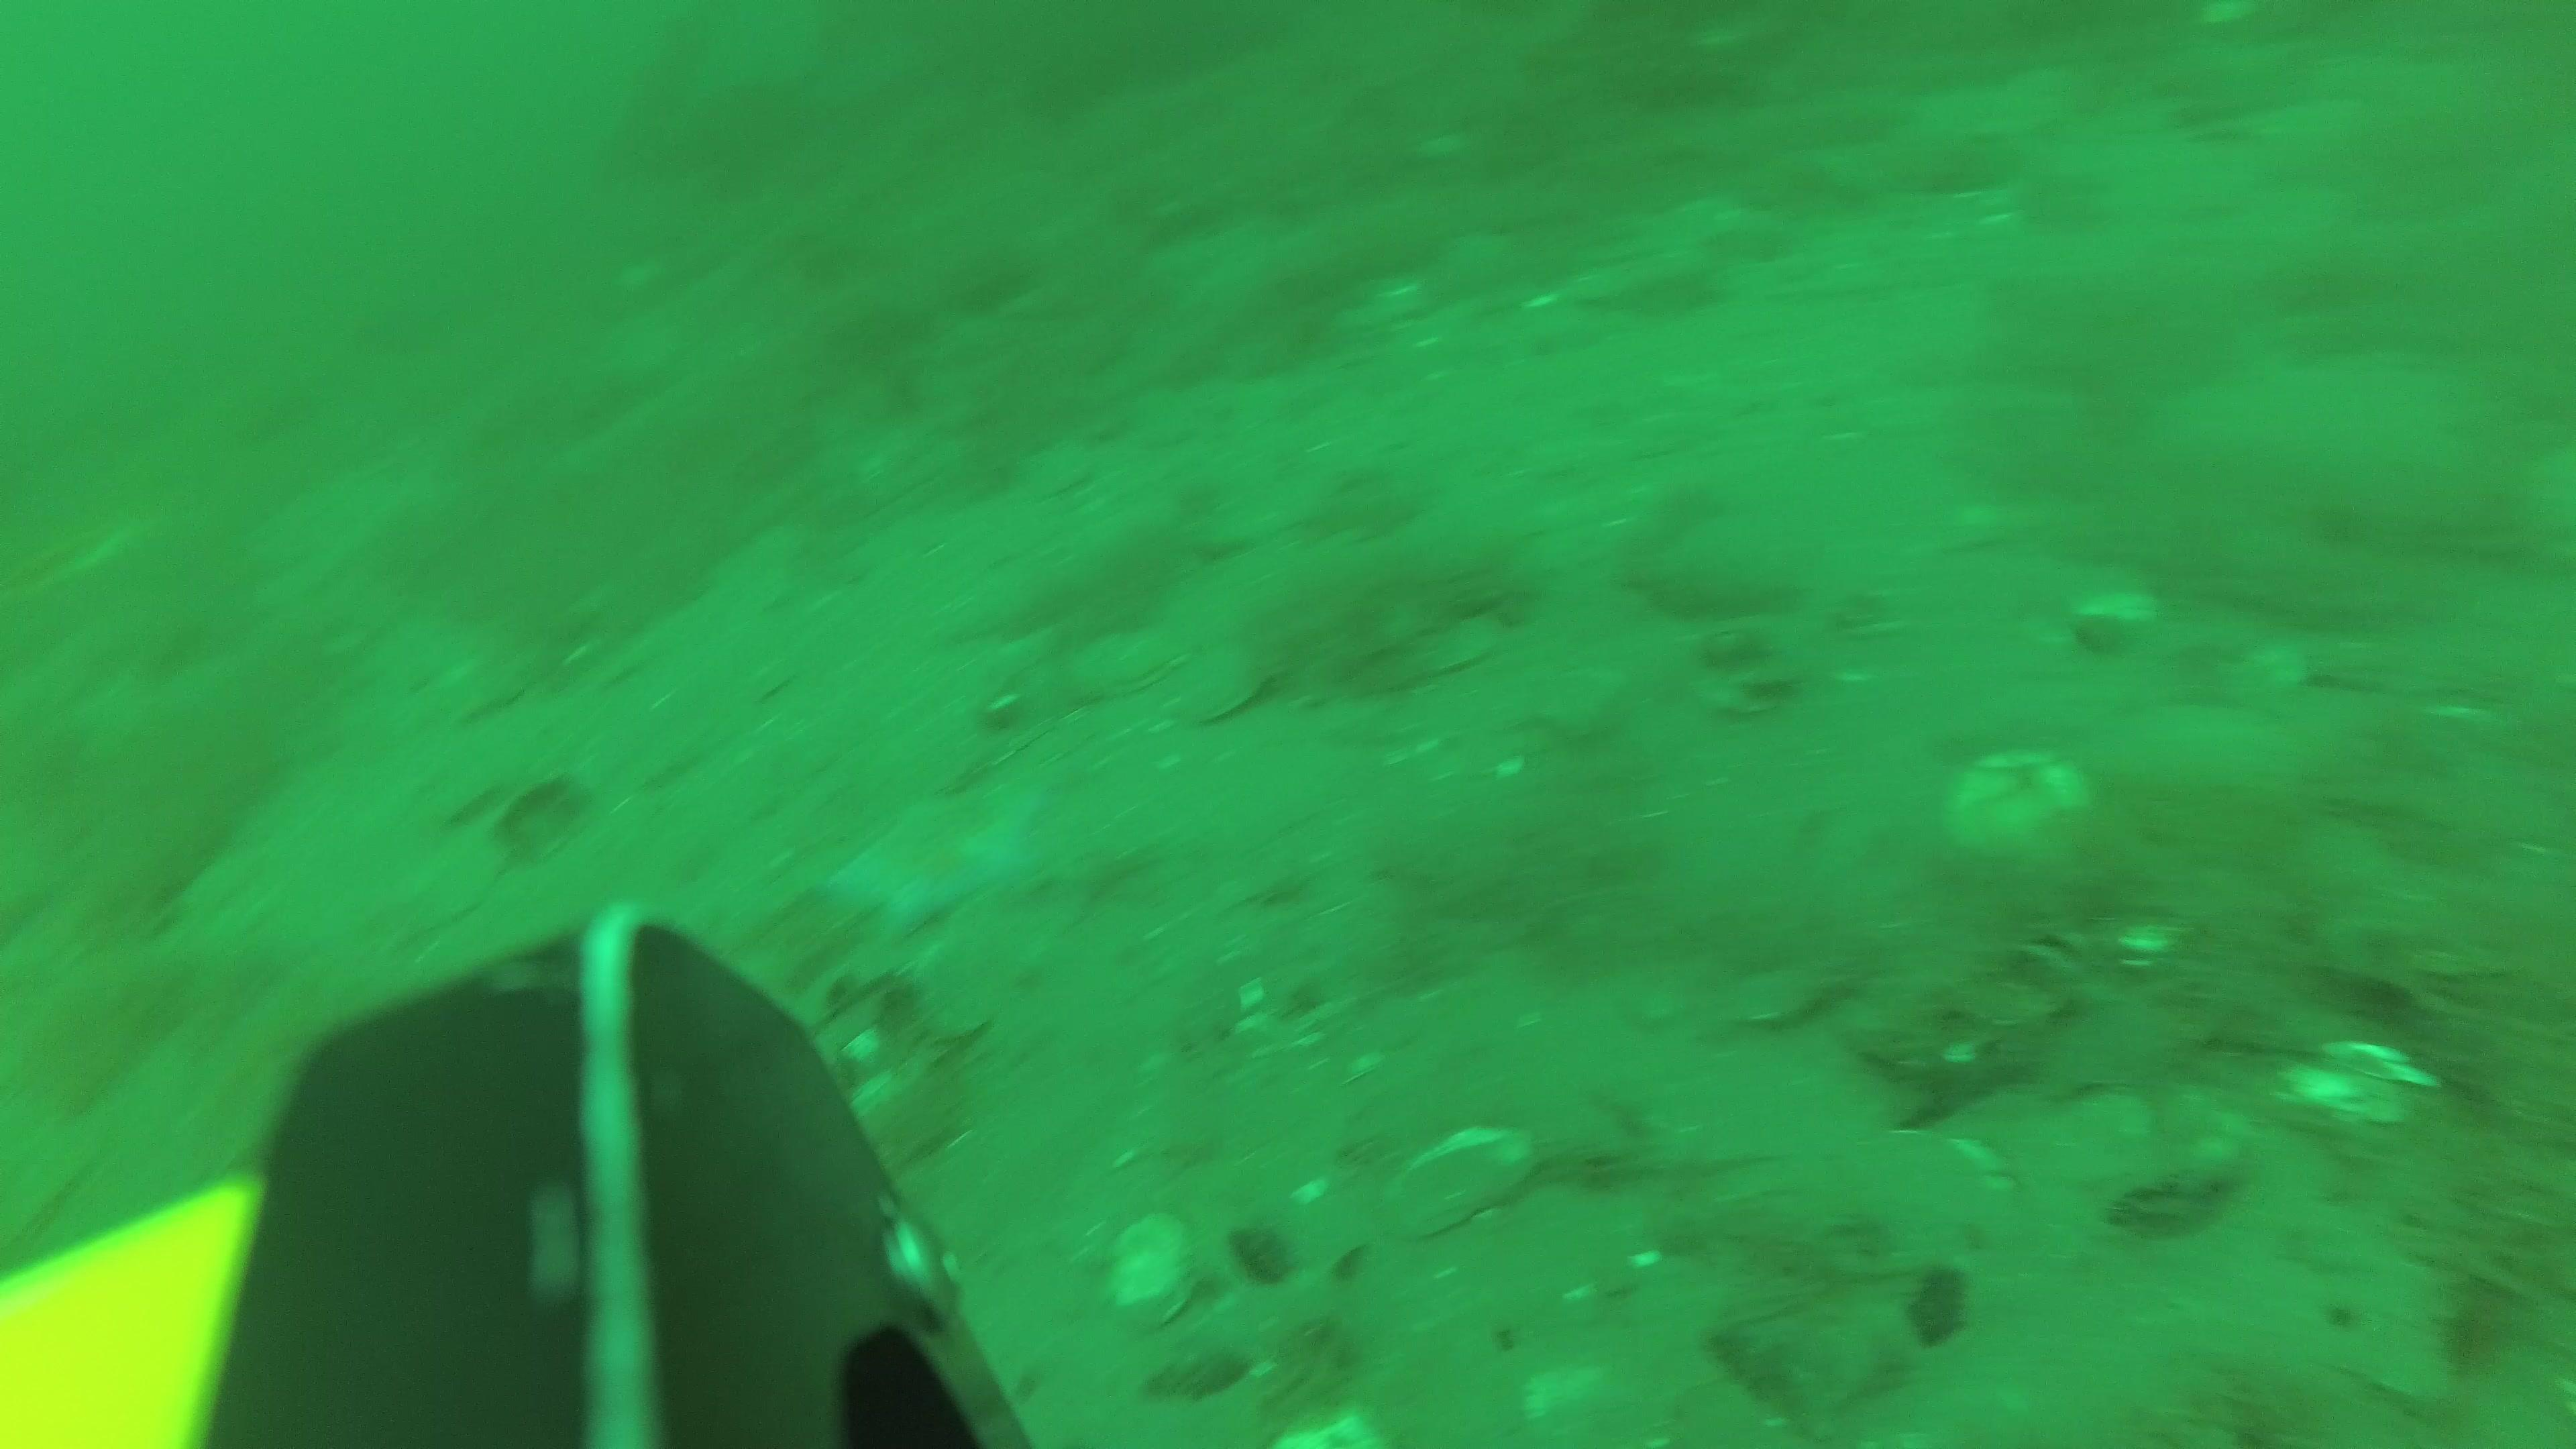scallop: (1932, 741, 2089, 870), (1382, 1129, 1541, 1240), (1108, 1208, 1208, 1332), (1070, 625, 1182, 699), (1168, 644, 1267, 727)
starfish: (830, 796, 1033, 931)
